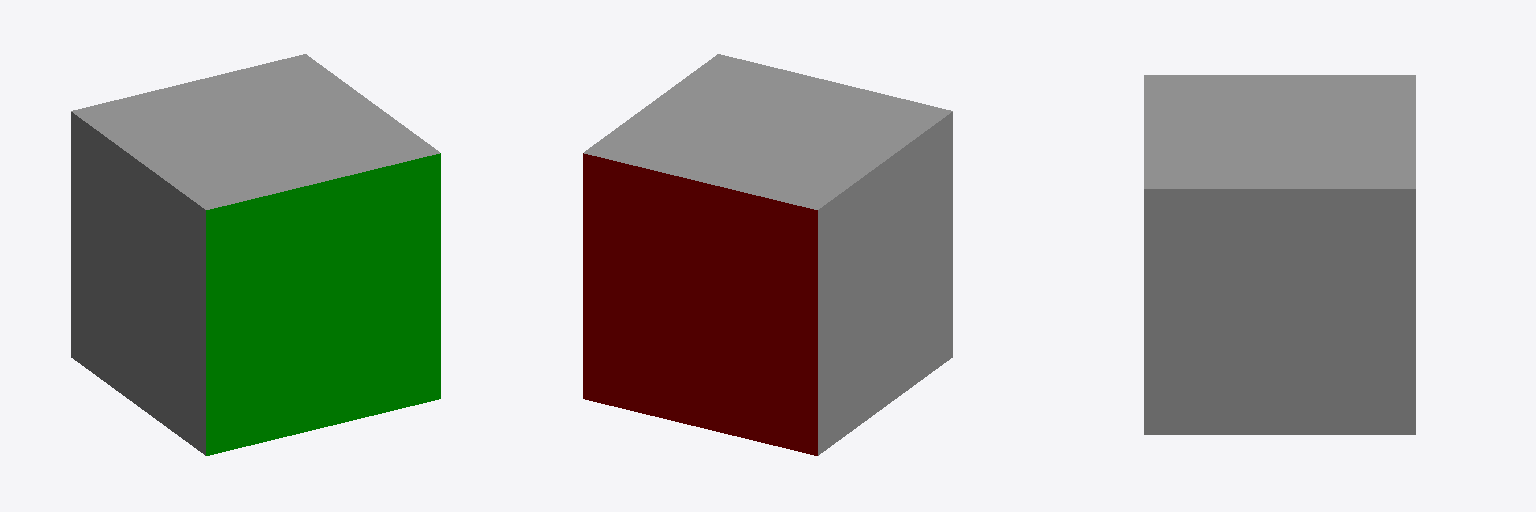
File: GITest3.obj
3 views of the same model, side by side, from view 1: azimuth 30°, elevation 25°; view 2: azimuth 150°, elevation 25°; view 3: azimuth 270°, elevation 25° (orthographic).
Visible parts, largest first — view 1: Cube.003_Cube.004; view 2: Cube.003_Cube.004; view 3: Cube.003_Cube.004.
Part boxes in pixels (left/top/right/bottom): Cube.003_Cube.004: left=71, top=54, right=440, bottom=455; Cube.003_Cube.004: left=583, top=54, right=952, bottom=455; Cube.003_Cube.004: left=1144, top=75, right=1415, bottom=434.
Bounding box in the file's own units: 4 × 4.03 × 4.